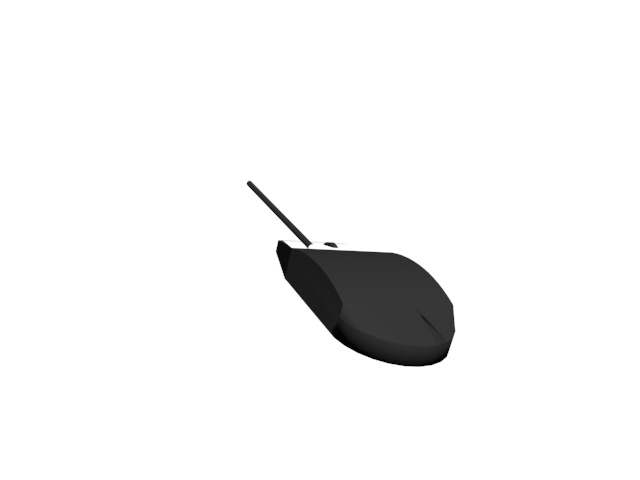mouse: (241, 177, 456, 368)
